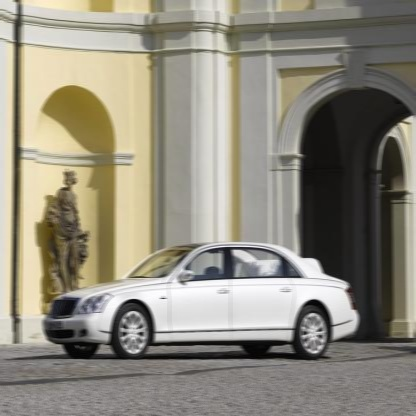Vehicle: (44, 241, 359, 360)
